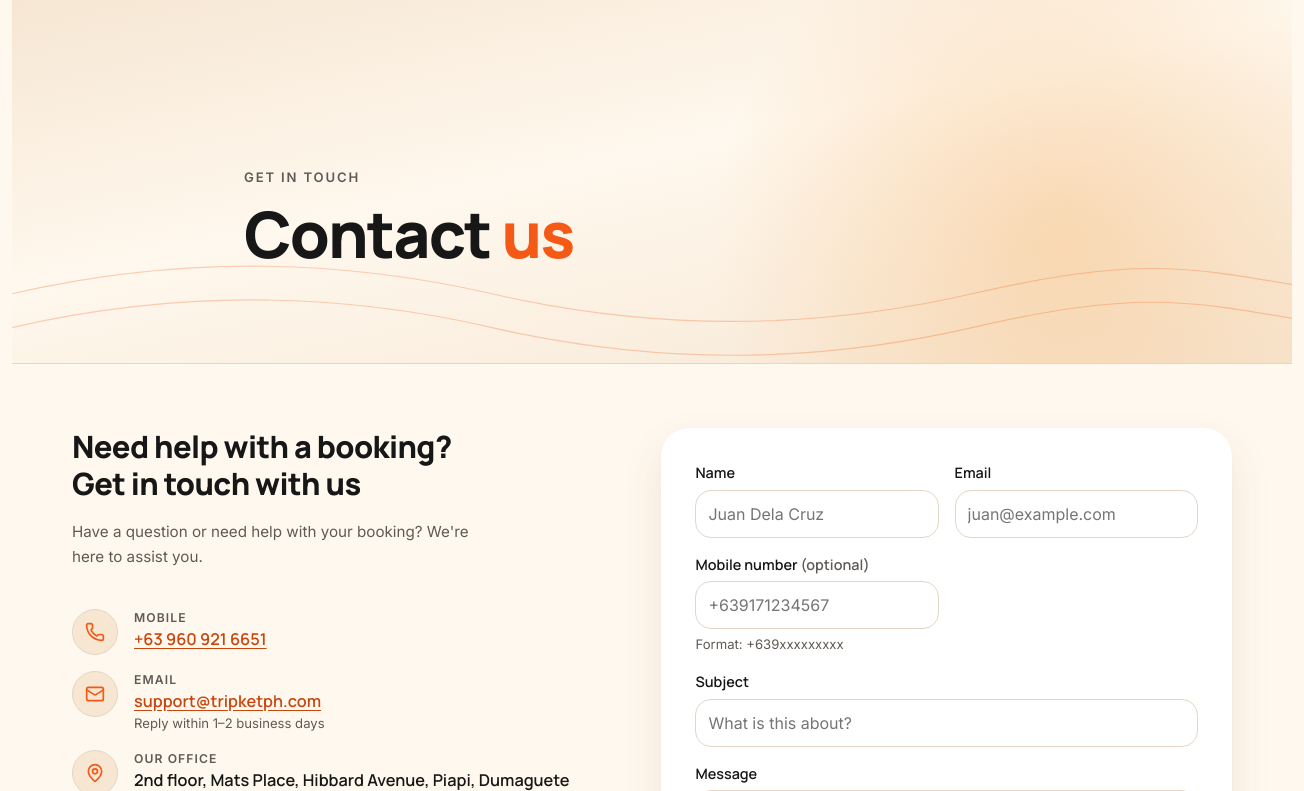
when the send does not work › a broken upstream offers the email route rather than a dead end
Type "Maria Santos" into the field labelled "Name". click: (817, 514)
box: x1=695 y1=490 x2=939 y2=538
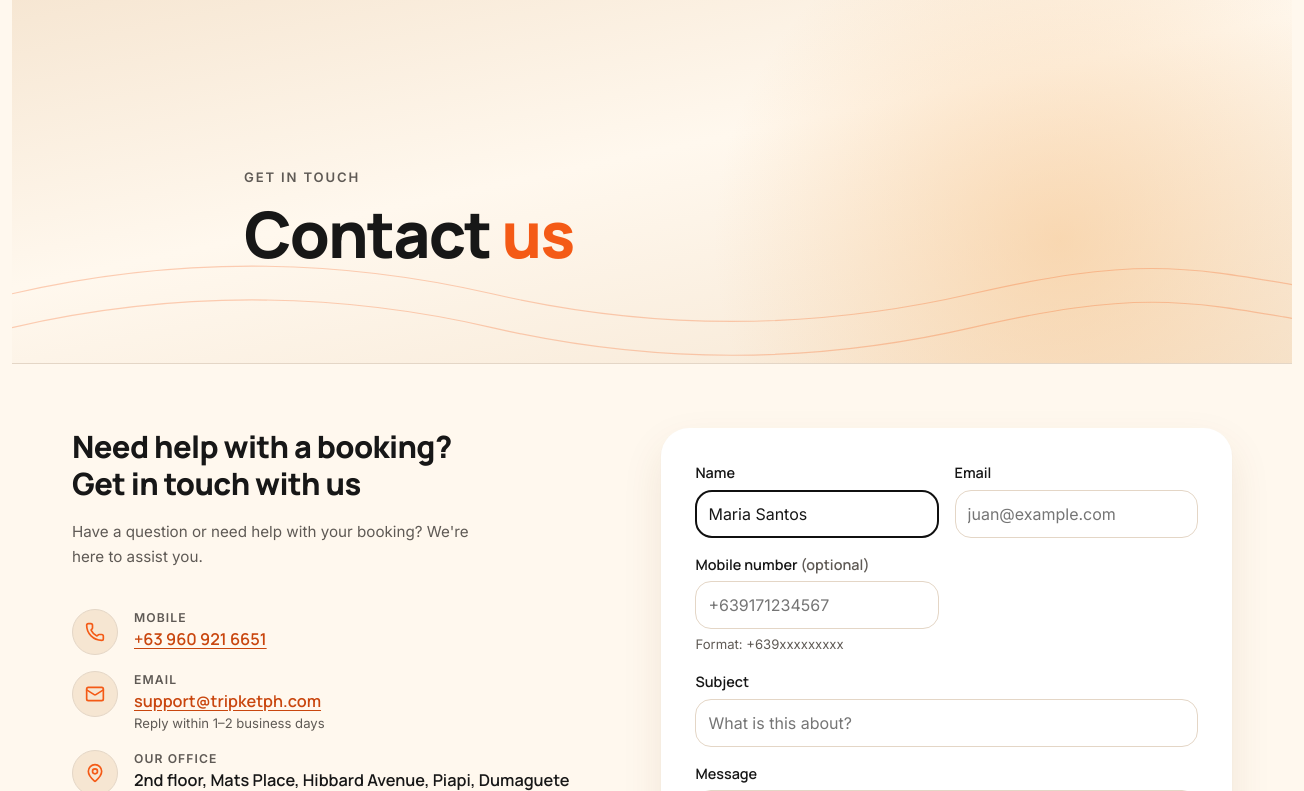
Type "maria@example.com" into the field labelled "Email". click: (1076, 514)
box: x1=955 y1=490 x2=1198 y2=538
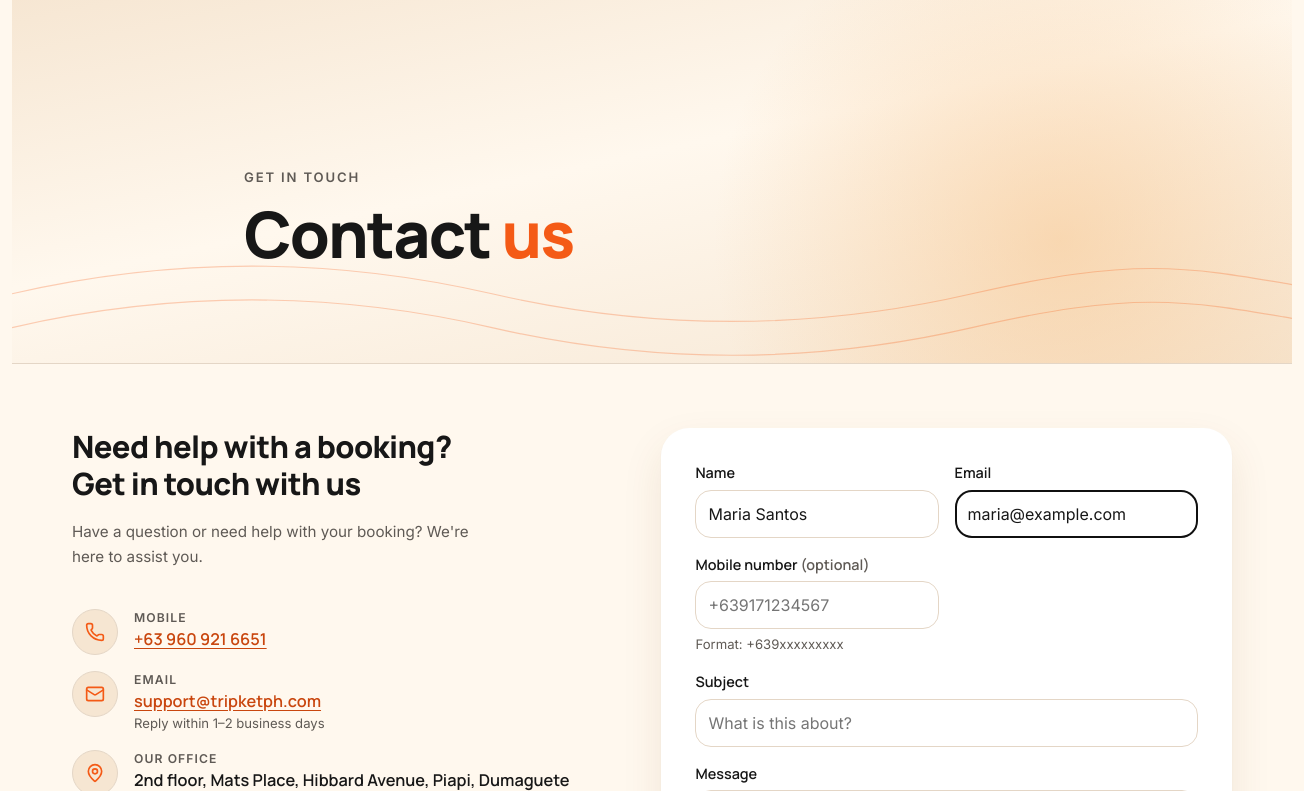
Type "Missing ticket" into the field labelled "Subject". click: (947, 723)
box: x1=695 y1=699 x2=1198 y2=747
(page scrolled)
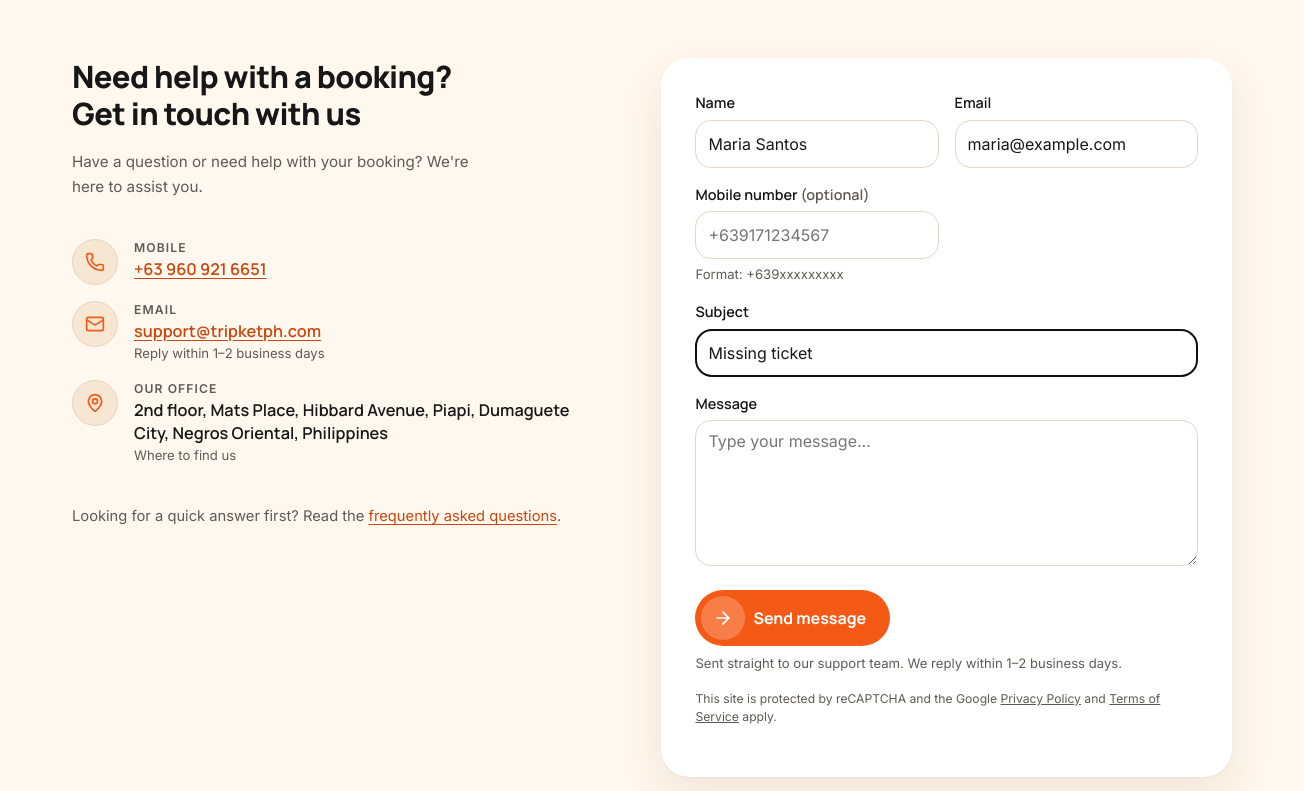
Type "Where is my ticket?" into the text box labelled "Message". click: (947, 493)
box: x1=695 y1=420 x2=1198 y2=566
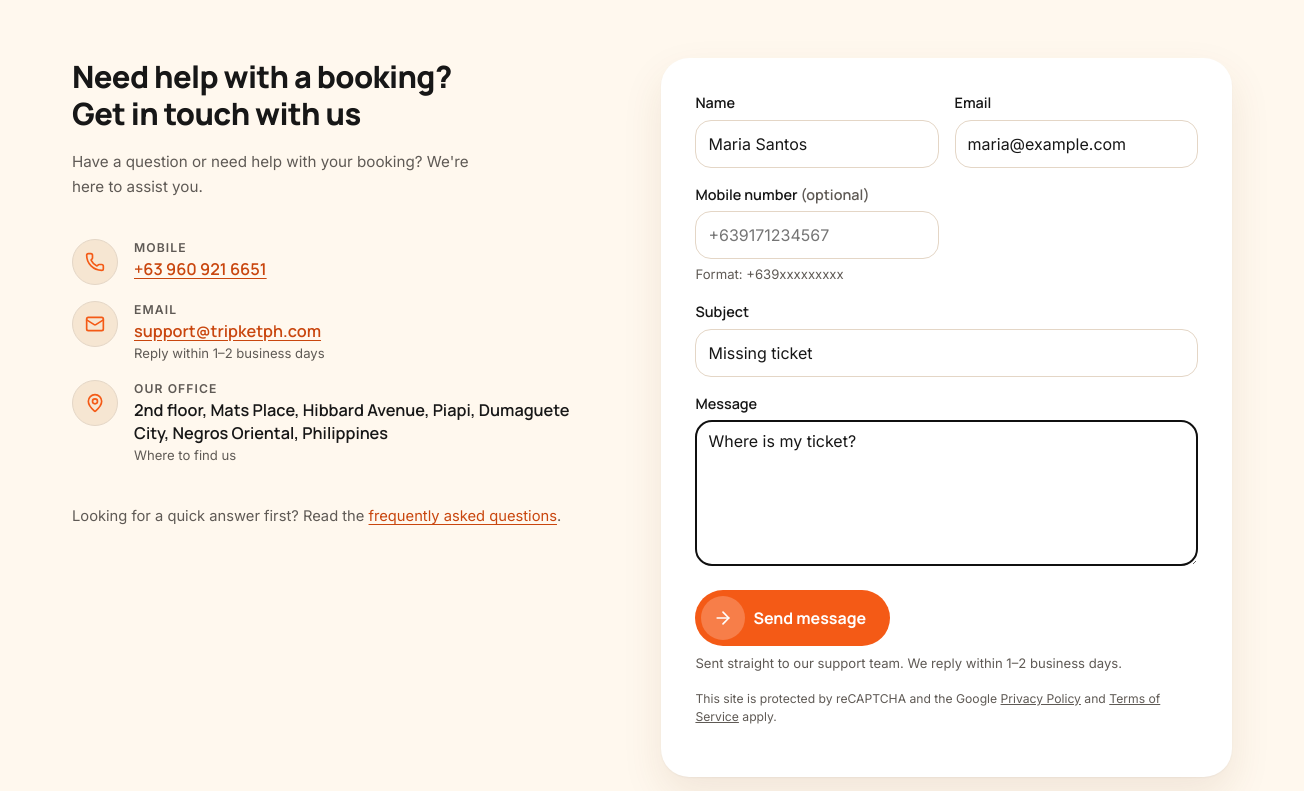
Click the button "Send message". click: (793, 618)
box: x1=695 y1=590 x2=890 y2=646
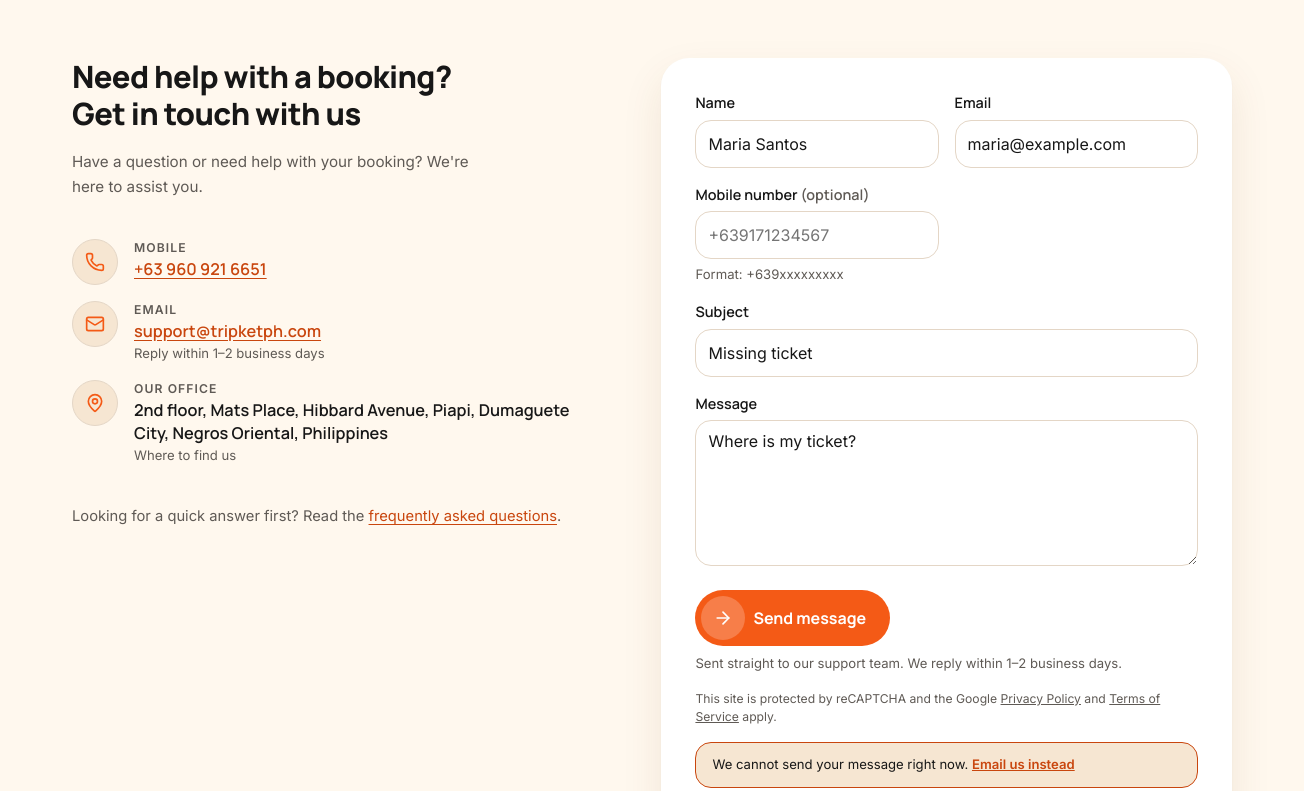
Now the message shows "cannot send your message", box x1=712 y1=756 x2=968 y2=772
Now the button "Email us instead" is shown, box x1=972 y1=756 x2=1075 y2=775
